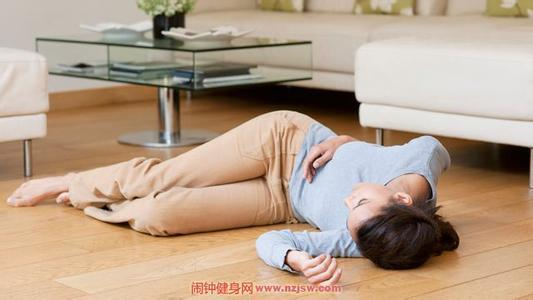down: (5, 107, 463, 288)
